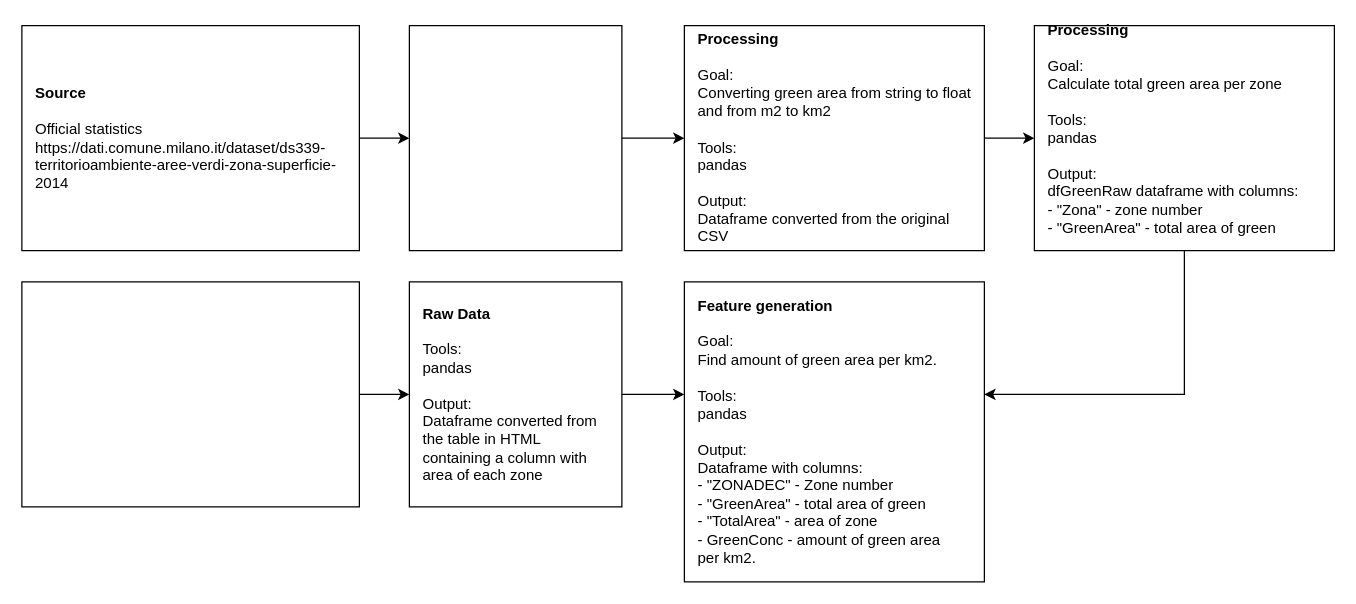
Image size: 1356x604. Some labels were removed from this diagram. Each missing label, with the centre of its shape:
Raw Data Tools: pandas Output: Dataframe converted from the original CSV: point (515, 137)
Source Wikipedia https://en.wikipedia.org/wiki/ Municipalities_of_Milan: point (190, 394)
